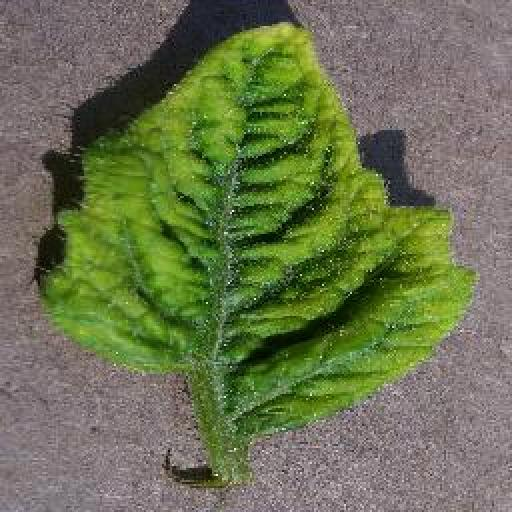disease_tomato: (38, 21, 479, 447)
